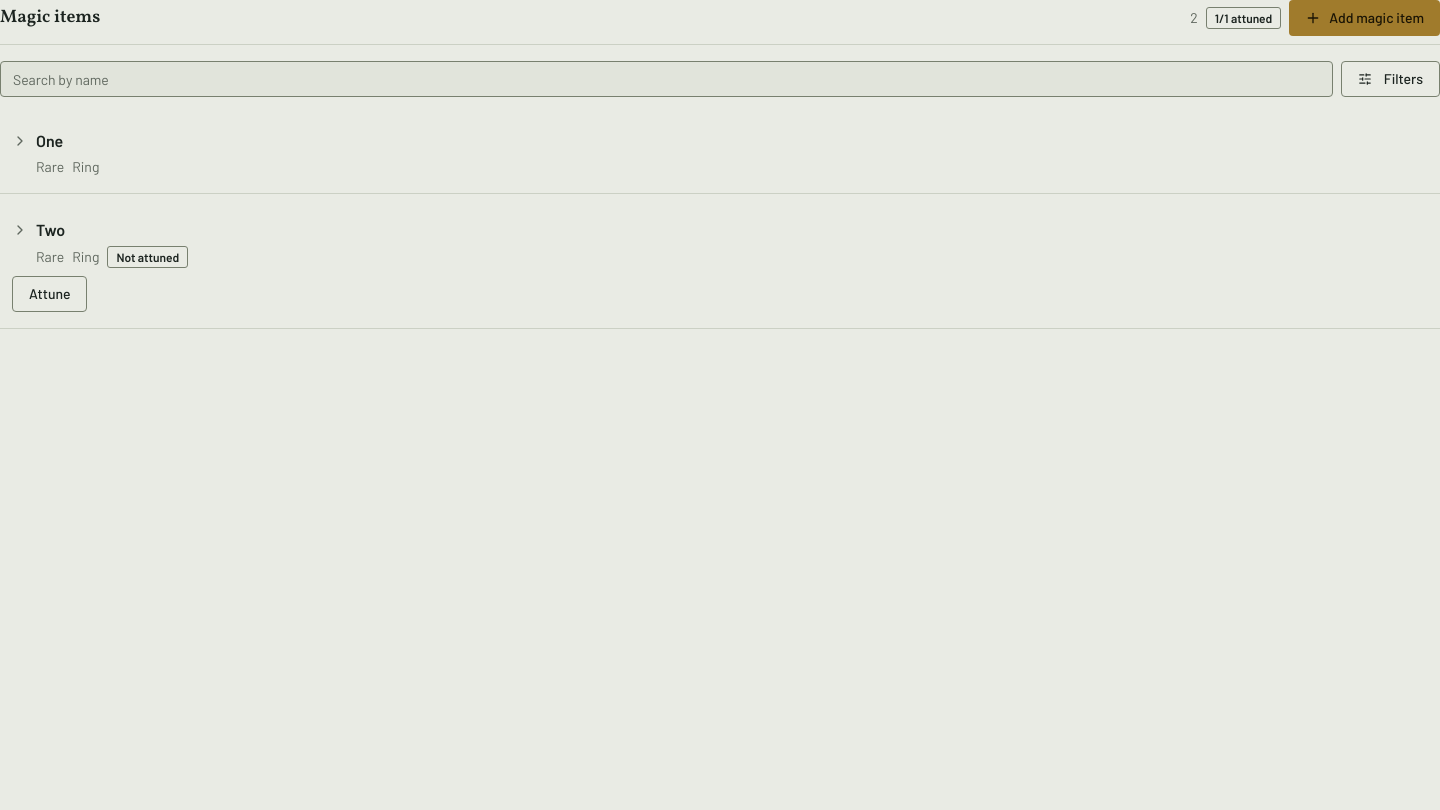
magic item attunement cap › keeps the row action blocked at the current slot limit
The image size is (1440, 810).
Click the button "Attune" at [50, 294], box [12,276,88,312]
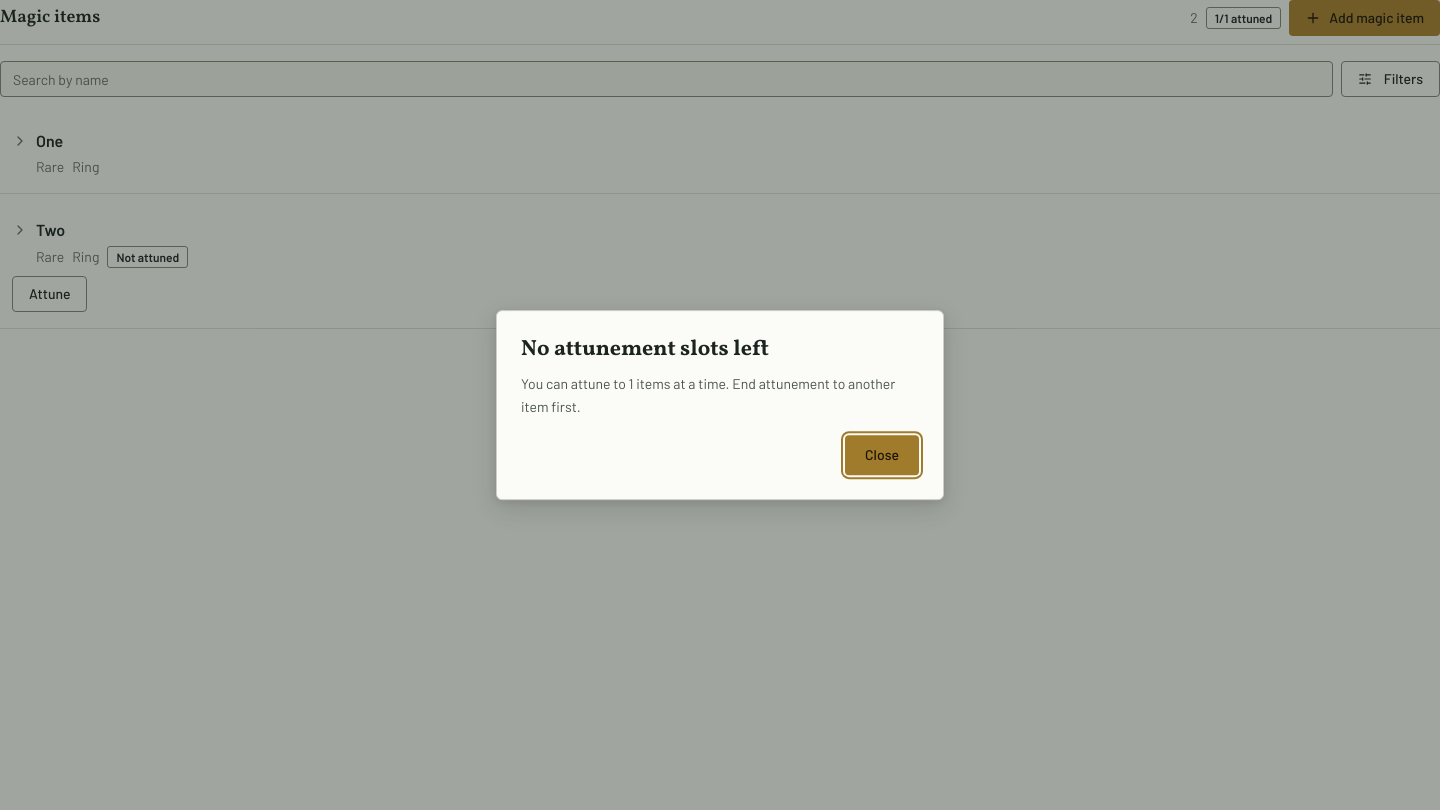
Now the dialog "No attunement slots left" is shown, box [496,310,944,500]
